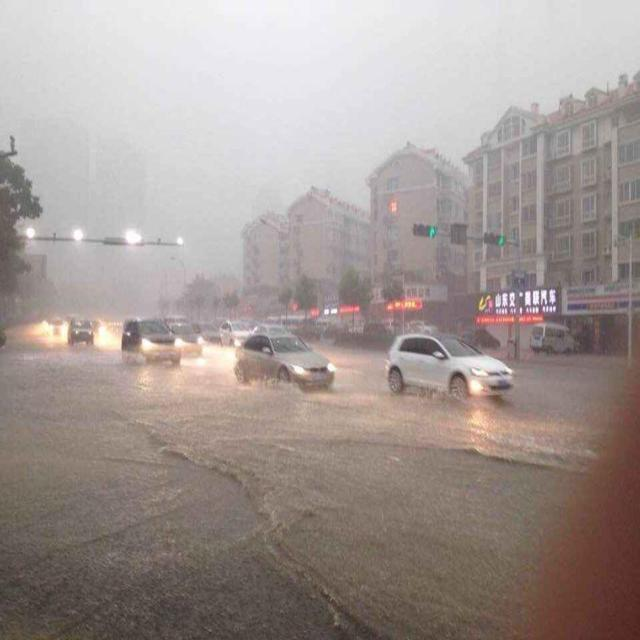car: (384, 332, 514, 401), (228, 328, 334, 388), (120, 318, 181, 362), (528, 323, 574, 355), (169, 319, 202, 356), (218, 317, 252, 345), (66, 316, 94, 346)
